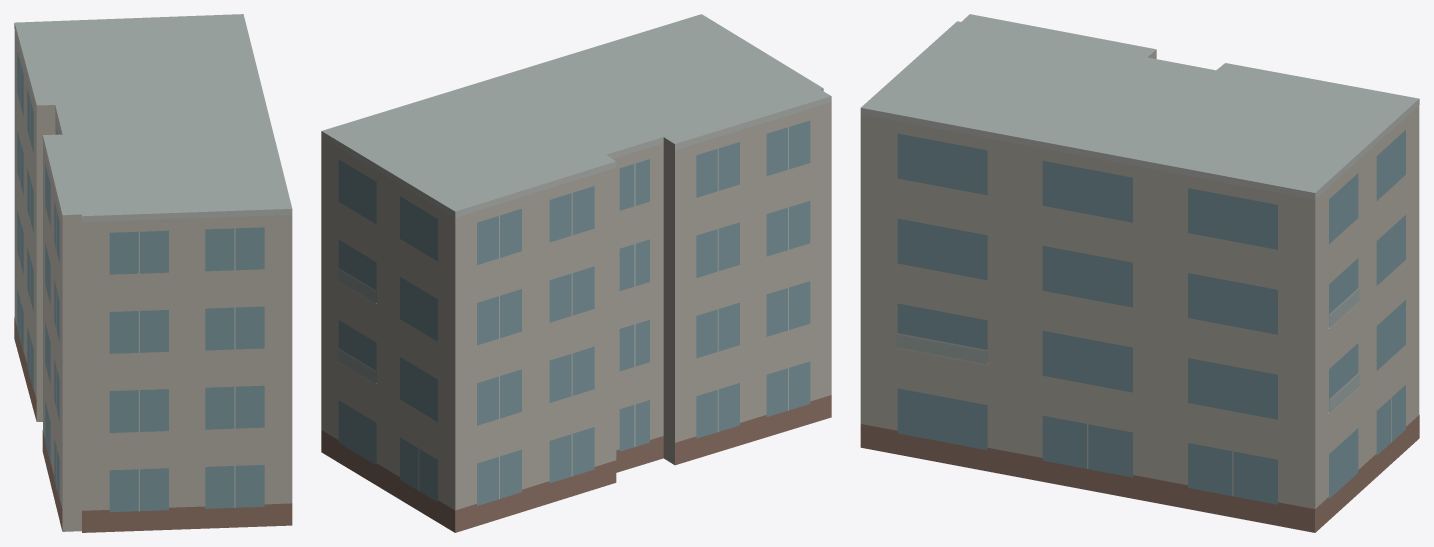
Rendered from survey-upis-33006238.glb.
3 views of the same model, side by side, from view 1: azimuth 30°, elevation 25°; view 2: azimuth 150°, elevation 25°; view 3: azimuth 270°, elevation 25° (orthographic). The views are drawn at different scales.
Visible parts, largest first — view 1: survey-upis-33006238.tmp; view 2: survey-upis-33006238.tmp; view 3: survey-upis-33006238.tmp.
Boxes of the visible parts, <box> form: survey-upis-33006238.tmp: <box>14,14,292,532</box>; survey-upis-33006238.tmp: <box>321,14,831,532</box>; survey-upis-33006238.tmp: <box>860,14,1419,532</box>.
Size of the model in its own units: 14.36 by 12.7 by 18.93.
